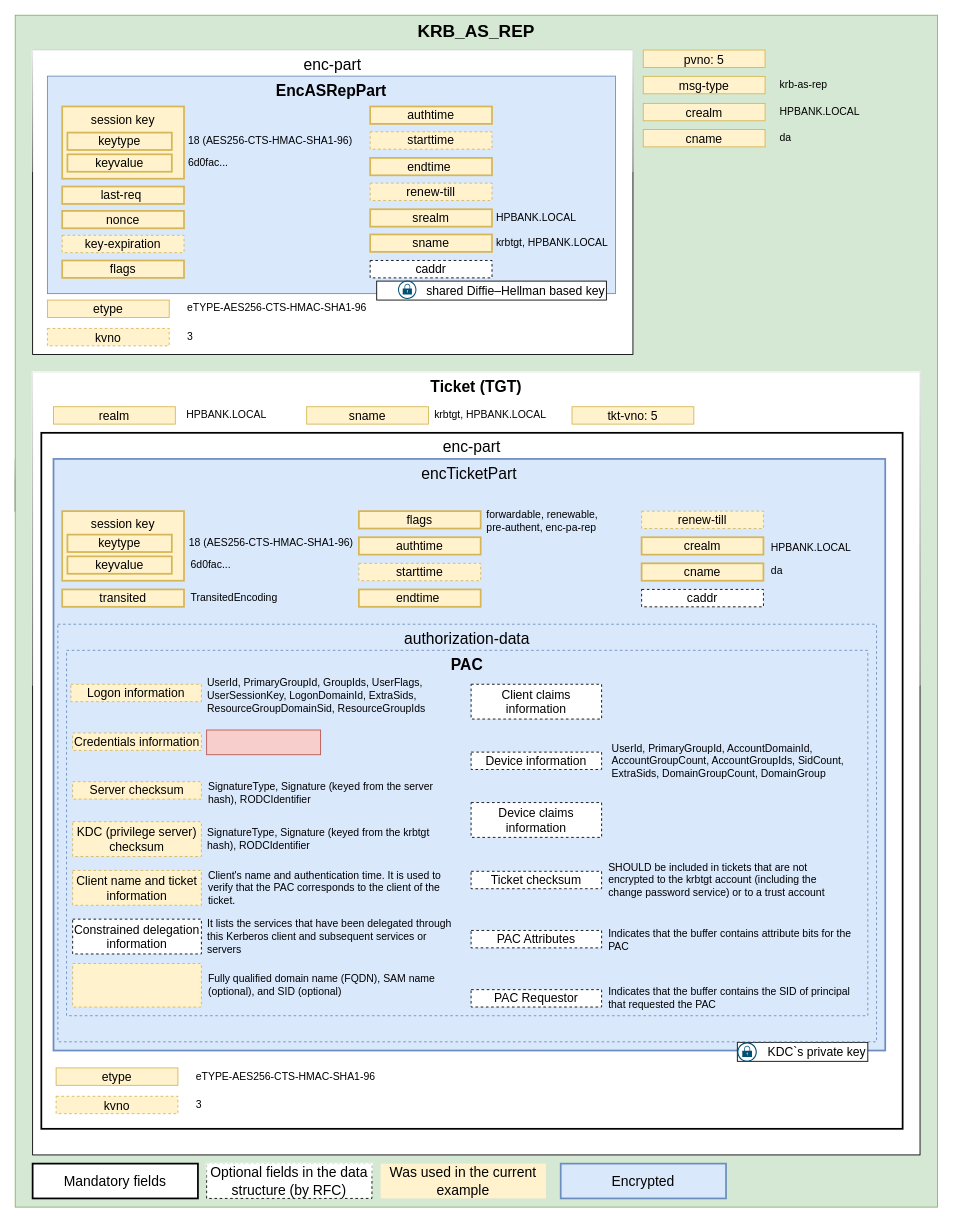
This 953x1222 diagram has some shape labels left out. The centre of each missing label's shape, as x and y in pixels:
"LM and NT hashes" belongs at pixel 263 742.
"User Principal Name and Domain Name System Information" belongs at pixel 136 985.
